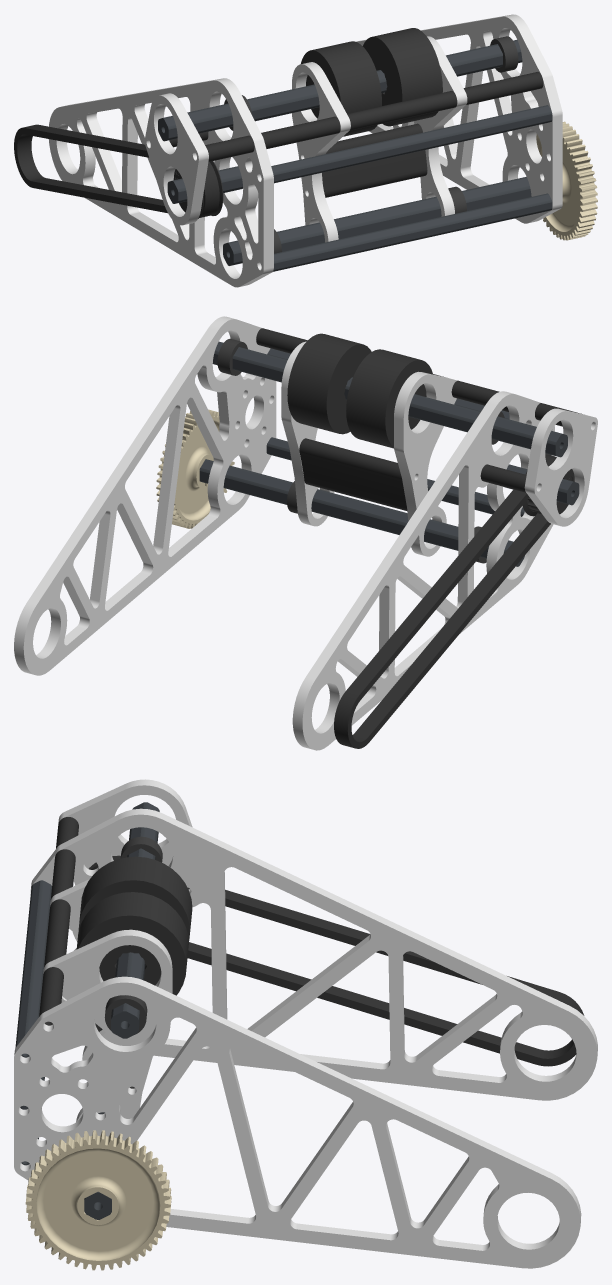
3 renders of one model, top to bottom at view 1: azimuth 30°, elevation 25°; view 2: azimuth 150°, elevation 25°; view 3: azimuth 270°, elevation 25°, orthographic. The views are drawn at different scales.
Parts seen in each view (by area): view 1: Left Hood Plate, Right Hood Plate, Hood Standoff (×2), 2" Solid Urethane Wheel (45A, 1" Wide, 1/2" Hex Bore) (×2), Backroller Plate (×2), Hood Shaft, 102T 5M 9mm Wide Belt, Reversal Plate, Backroller Shaft, 50t Pocketed Aluminum Spur Gear (20 DP, 1/2" Hex Bore), Back Guide, Backroller Spacer (×2) (+5 smaller); view 2: Right Hood Plate, Left Hood Plate, 102T 5M 9mm Wide Belt, 2" Solid Urethane Wheel (45A, 1" Wide, 1/2" Hex Bore) (×2), Backroller Plate (×2), Reversal Plate, Hood Shaft, Back Guide, Backroller Shaft, 50t Pocketed Aluminum Spur Gear (20 DP, 1/2" Hex Bore), Backroller Spacer (×2), Hood Standoff (+2 smaller); view 3: Right Hood Plate, Left Hood Plate, 50t Pocketed Aluminum Spur Gear (20 DP, 1/2" Hex Bore), 2" Solid Urethane Wheel (45A, 1" Wide, 1/2" Hex Bore) (×2), 102T 5M 9mm Wide Belt, Backroller Plate (×2), Reversal Plate, Hood Standoff, Backroller Shaft, Backroller Spacer (×2), Middle Spacer, Hood Shaft.
Boxes of the visible parts, x1=… form: Left Hood Plate: x1=48, y1=78, x2=273, y2=287; Right Hood Plate: x1=356, y1=14, x2=562, y2=223; Hood Standoff (×2): x1=271, y1=105, x2=552, y2=271; 2" Solid Urethane Wheel (45A, 1" Wide, 1/2" Hex Bore) (×2): x1=301, y1=28, x2=442, y2=136; Backroller Plate (×2): x1=292, y1=36, x2=467, y2=242; Hood Shaft: x1=223, y1=176, x2=531, y2=265; 102T 5M 9mm Wide Belt: x1=14, y1=124, x2=219, y2=217; Reversal Plate: x1=144, y1=93, x2=208, y2=225; Backroller Shaft: x1=158, y1=40, x2=522, y2=141; 50t Pocketed Aluminum Spur Gear (20 DP, 1/2" Hex Bore): x1=536, y1=121, x2=597, y2=240; Back Guide: x1=322, y1=123, x2=427, y2=197; Backroller Spacer (×2): x1=261, y1=72, x2=543, y2=148; Right Hood Plate: x1=14, y1=316, x2=276, y2=675; Left Hood Plate: x1=292, y1=391, x2=554, y2=750; 102T 5M 9mm Wide Belt: x1=334, y1=455, x2=556, y2=748; 2" Solid Urethane Wheel (45A, 1" Wide, 1/2" Hex Bore) (×2): x1=287, y1=333, x2=432, y2=448; Backroller Plate (×2): x1=281, y1=341, x2=457, y2=556; Reversal Plate: x1=524, y1=408, x2=597, y2=526; Hood Shaft: x1=199, y1=459, x2=524, y2=566; Back Guide: x1=299, y1=438, x2=407, y2=510; Backroller Shaft: x1=212, y1=341, x2=567, y2=457; 50t Pocketed Aluminum Spur Gear (20 DP, 1/2" Hex Bore): x1=156, y1=409, x2=234, y2=528; Backroller Spacer (×2): x1=256, y1=328, x2=508, y2=411; Hood Standoff: x1=266, y1=437, x2=524, y2=516; Right Hood Plate: x1=14, y1=976, x2=581, y2=1268; Left Hood Plate: x1=30, y1=808, x2=597, y2=1100; 50t Pocketed Aluminum Spur Gear (20 DP, 1/2" Hex Bore): x1=25, y1=1130, x2=171, y2=1270; 2" Solid Urethane Wheel (45A, 1" Wide, 1/2" Hex Bore) (×2): x1=76, y1=856, x2=192, y2=995; 102T 5M 9mm Wide Belt: x1=91, y1=859, x2=584, y2=1066; Backroller Plate (×2): x1=43, y1=879, x2=172, y2=1121; Reversal Plate: x1=58, y1=779, x2=192, y2=885; Hood Standoff: x1=15, y1=880, x2=51, y2=1057; Backroller Shaft: x1=111, y1=802, x2=159, y2=1038; Backroller Spacer (×2): x1=39, y1=849, x2=75, y2=1025; Middle Spacer: x1=44, y1=899, x2=70, y2=967; Hood Shaft: x1=84, y1=1028, x2=111, y2=1219.
Size of the model in its own units: 0.2513 by 0.1448 by 0.2658.
